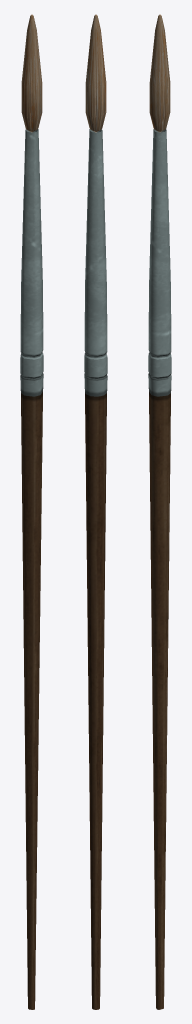
Rendered from smallBrush.fbx.
3 views of the same model, side by side, from view 1: azimuth 30°, elevation 25°; view 2: azimuth 150°, elevation 25°; view 3: azimuth 330°, elevation 25° (orthographic).
Parts seen in each view (by area): view 1: polySurface4; view 2: polySurface4; view 3: polySurface4.
Part boxes in pixels (x1,y1,x2,y2): polySurface4: (20,14,43,1009); polySurface4: (84,14,107,1009); polySurface4: (148,14,171,1009).
Size of the model in its own units: 1.25 by 60.41 by 1.28.
Materials: 1 (1 with a texture image).
